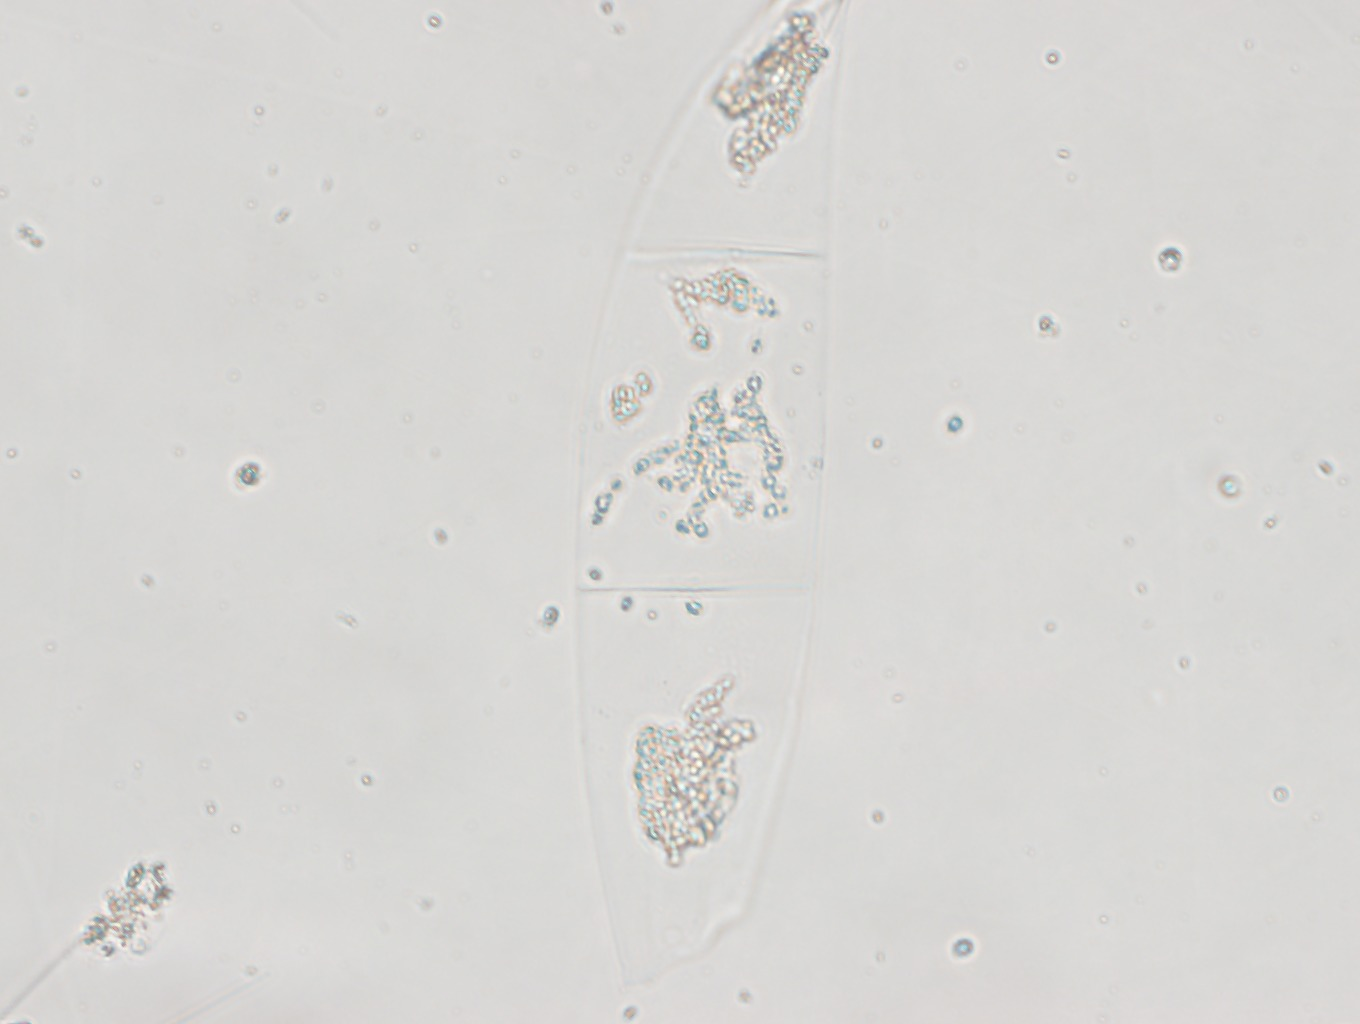helicotheca: (571, 1, 848, 1005)
